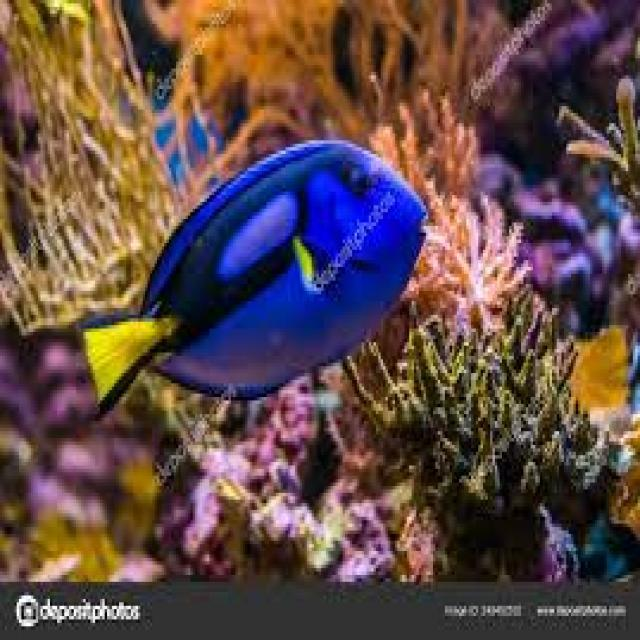BlueTang: (88, 149, 428, 421)
